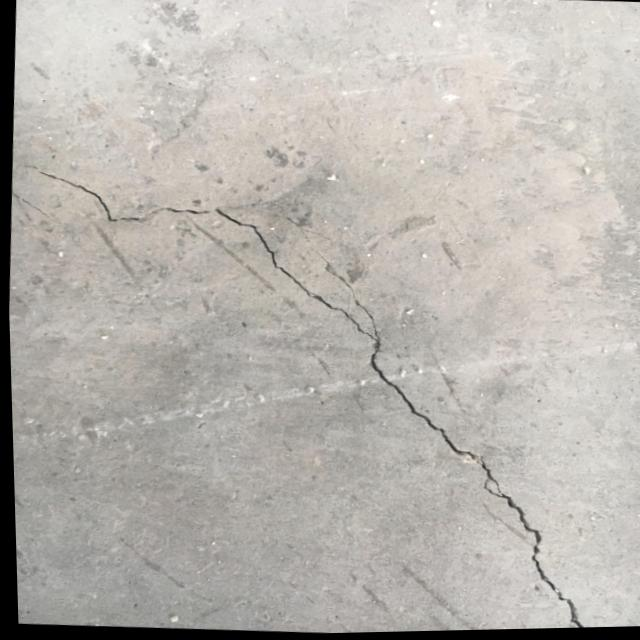Crack: (337, 335, 619, 634), (4, 150, 390, 357)
